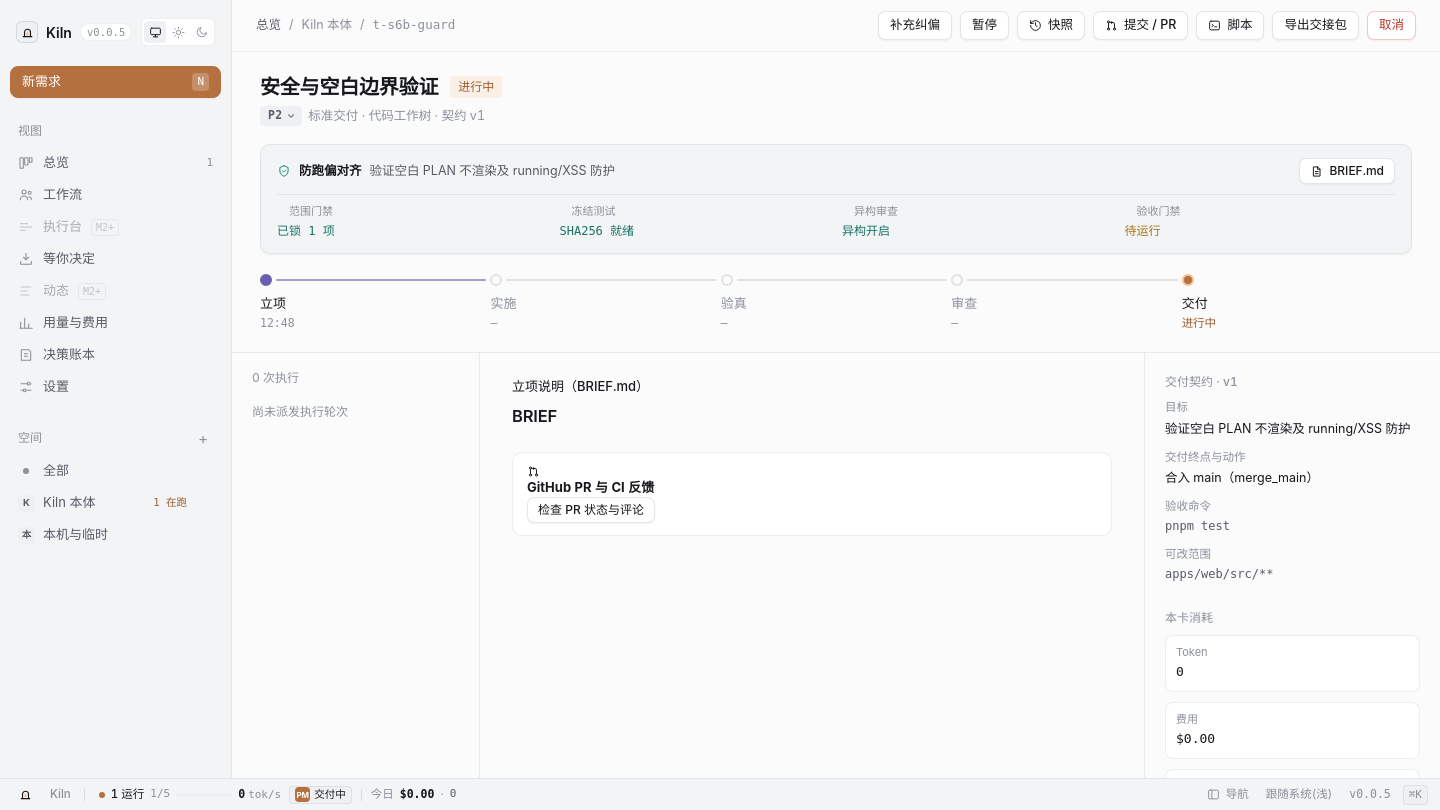
Test case: @kiln/web Slice 6b DetailView & IntakeView › normalizes partial kiln-split-cards from PM reply, preserves partial attachment upload success, blocks oversized files, hides blank PLAN.md, and guards DeliverP
The width and height of the screenshot is (1440, 810).
Later steps or results of the test are not shown.
Click the button "提交 / PR": click(1141, 26) [1093,11,1188,40]
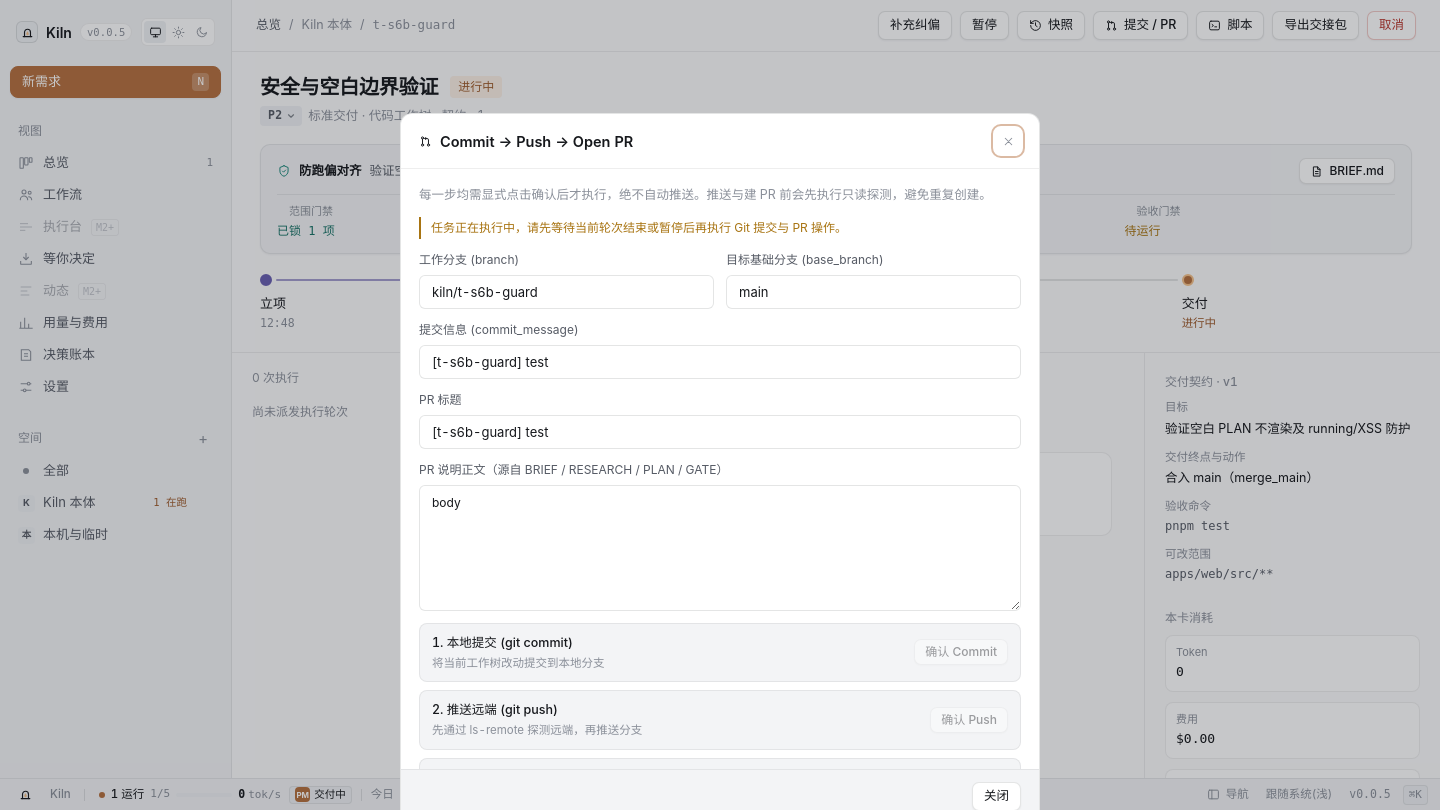
Result: the text "任务正在执行中，请先等待当前轮次结束或暂停后再执行 Git 提交与 PR 操作。" is shown at [419,217,1021,239]
Result: the button "确认 Commit" is disabled at [914,640,1008,666]
